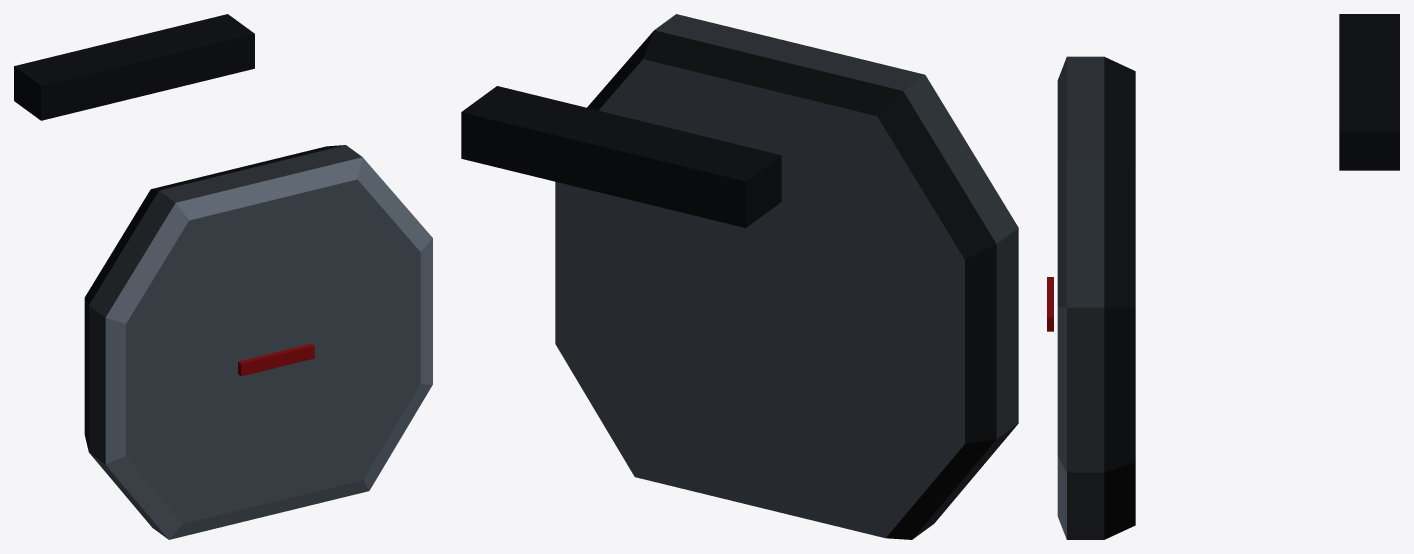
File: VeilSensorCover.obj
3 views of the same model, side by side, from view 1: azimuth 30°, elevation 25°; view 2: azimuth 150°, elevation 25°; view 3: azimuth 270°, elevation 25° (orthographic). The views are drawn at different scales.
Parts seen in each view (by area): view 1: sensor_hatch, hatch_hinge, hatch_mark; view 2: sensor_hatch, hatch_hinge; view 3: sensor_hatch, hatch_hinge.
Boxes of the visible parts, left/top/right/bottom form: sensor_hatch: left=84, top=145, right=432, bottom=539; hatch_hinge: left=14, top=14, right=254, bottom=120; hatch_mark: left=238, top=343, right=314, bottom=376; sensor_hatch: left=555, top=14, right=1018, bottom=539; hatch_hinge: left=461, top=86, right=781, bottom=227; sensor_hatch: left=1057, top=56, right=1135, bottom=539; hatch_hinge: left=1339, top=14, right=1399, bottom=170.
Bounding box in the file's own units: 0.49 × 0.525 × 0.407.
